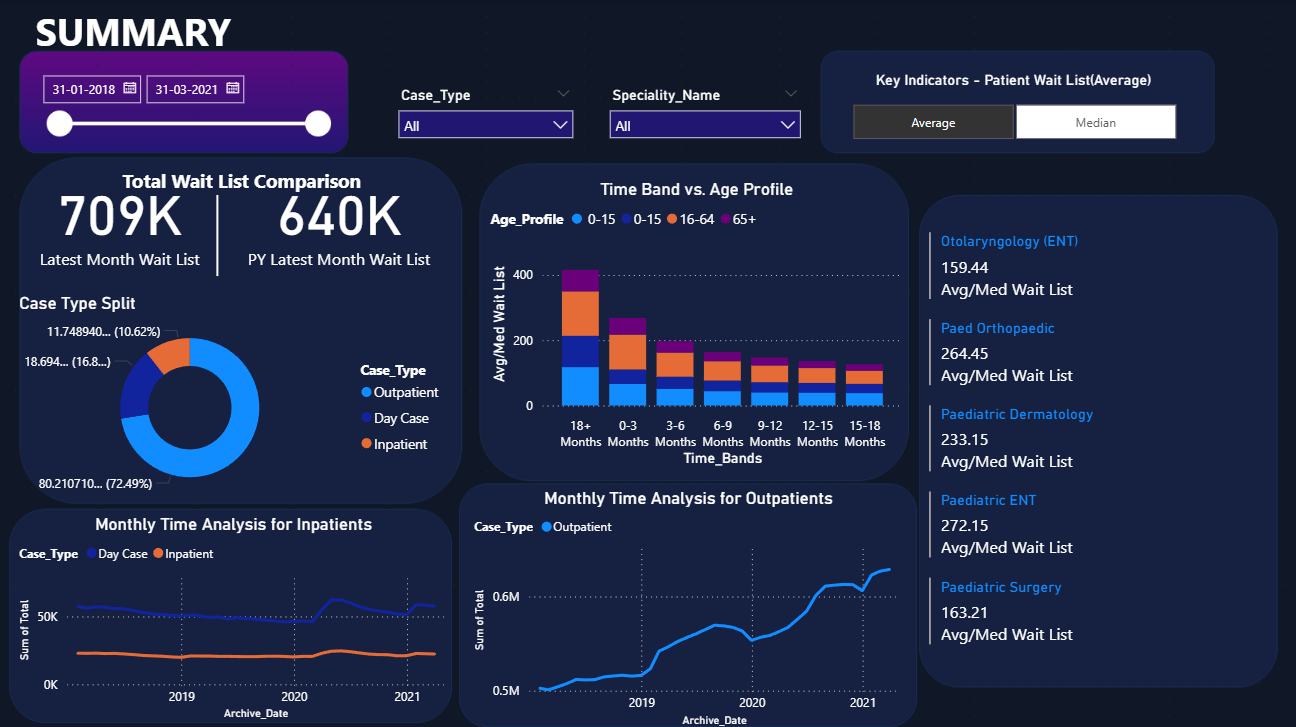

The dashboard page shown, as its layout file describes it:
{"tool":"powerbi","page":{"name":"Summary","canvas":[1280,720],"ordinal":0},"visuals":[{"type":"card","fields":{"Values":["All_Data.Latest Month Wait List"]},"box":[32,160,176,112],"z":0},{"type":"card","fields":{"Values":["All_Data.PY Latest Month Wait List"]},"box":[240,160,192,112],"z":1000},{"type":"slicer","fields":{"Values":["Calculation Method.Calc Method"]},"box":[816,96,368,48],"z":2000},{"type":"donutChart","title":"Case Type Split","fields":{"Category":["All_Data.Case_Type"],"Y":["All_Data.Avg/Med Wait List"]},"box":[16,288,432,208],"z":3000},{"type":"columnChart","title":"Time Band vs. Age Profile","fields":{"Y":["All_Data.Avg/Med Wait List"],"Category":["All_Data.Time_Bands"],"Series":["All_Data.Age_Profile"]},"box":[480,176,416,288],"z":4000},{"type":"multiRowCard","fields":{"Values":["All_Data.Speciality_Name","All_Data.Avg/Med Wait List"]},"box":[912,224,352,448],"z":5000},{"type":"card","fields":{"Values":["All_Data.NoDataLeft"]},"box":[160,592,240,48],"z":5500},{"type":"lineChart","title":"Monthly Time Analysis for Inpatients","fields":{"Category":["All_Data.Archive_Date"],"Y":["Sum(All_Data.Total)"],"Series":["All_Data.Case_Type"]},"box":[16,506,432,208],"z":6000},{"type":"card","fields":{"Values":["All_Data.NoDataRight"]},"box":[624,608,240,48],"z":7000},{"type":"lineChart","title":"Monthly Time Analysis for Outpatients","fields":{"Category":["All_Data.Archive_Date"],"Y":["Sum(All_Data.Total)"],"Series":["All_Data.Case_Type"]},"box":[464,480,432,240],"z":8000},{"type":"slicer","fields":{"Values":["All_Data.Archive_Date"]},"box":[32,64,304,112],"z":9000},{"type":"slicer","fields":{"Values":["All_Data.Case_Type"]},"box":[384,80,192,64],"z":10000},{"type":"slicer","fields":{"Values":["All_Data.Speciality_Name"]},"box":[592,80,208,64],"z":11000},{"type":"textbox","box":[32,0,240,64],"z":12000},{"type":"shape","box":[96,192,240,80],"z":13000},{"type":"textbox","box":[96,160,288,48],"z":14000},{"type":"card","fields":{"Values":["All_Data.Dynamic Title"]},"box":[832,64,336,32],"z":15000}]}

Visuals, with their boxes in screenshot pixels (x1, y1, x2, y2), scaled from the page's 1280x720 canvas onto the 1296x727 screenshot:
card - All_Data.Latest Month Wait List: 32,162,211,275
card - All_Data.PY Latest Month Wait List: 243,162,437,275
slicer - Calculation Method.Calc Method: 826,97,1199,145
"Case Type Split" donutChart: 16,291,454,501
"Time Band vs. Age Profile" columnChart: 486,178,907,469
multiRowCard - All_Data.Speciality_Name x All_Data.Avg/Med Wait List: 923,226,1280,679
card - All_Data.NoDataLeft: 162,598,405,646
"Monthly Time Analysis for Inpatients" lineChart: 16,511,454,721
card - All_Data.NoDataRight: 632,614,875,662
"Monthly Time Analysis for Outpatients" lineChart: 470,485,907,726
slicer - All_Data.Archive_Date: 32,65,340,178
slicer - All_Data.Case_Type: 389,81,583,145
slicer - All_Data.Speciality_Name: 599,81,810,145
textbox: 32,0,275,65
shape: 97,194,340,275
textbox: 97,162,389,210
card - All_Data.Dynamic Title: 842,65,1183,97
